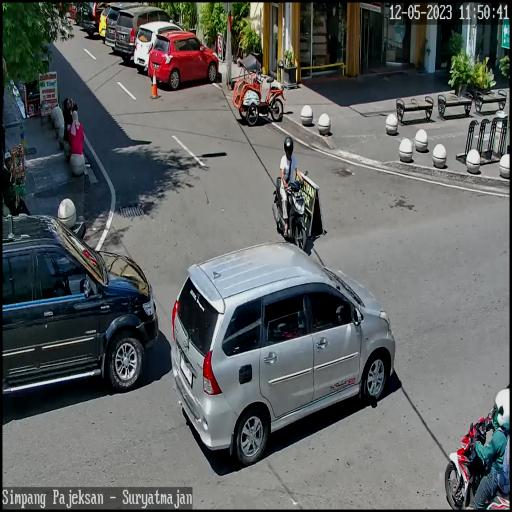mobil: (168, 238, 396, 471), (2, 209, 158, 400), (147, 26, 221, 98), (114, 8, 185, 68), (135, 17, 188, 84)
motor: (269, 154, 316, 250)
